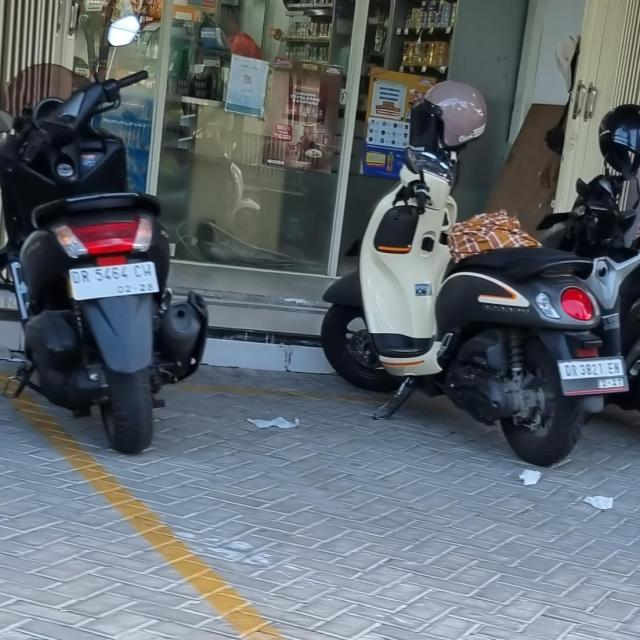plate: (69, 261, 159, 300), (560, 358, 625, 391)
